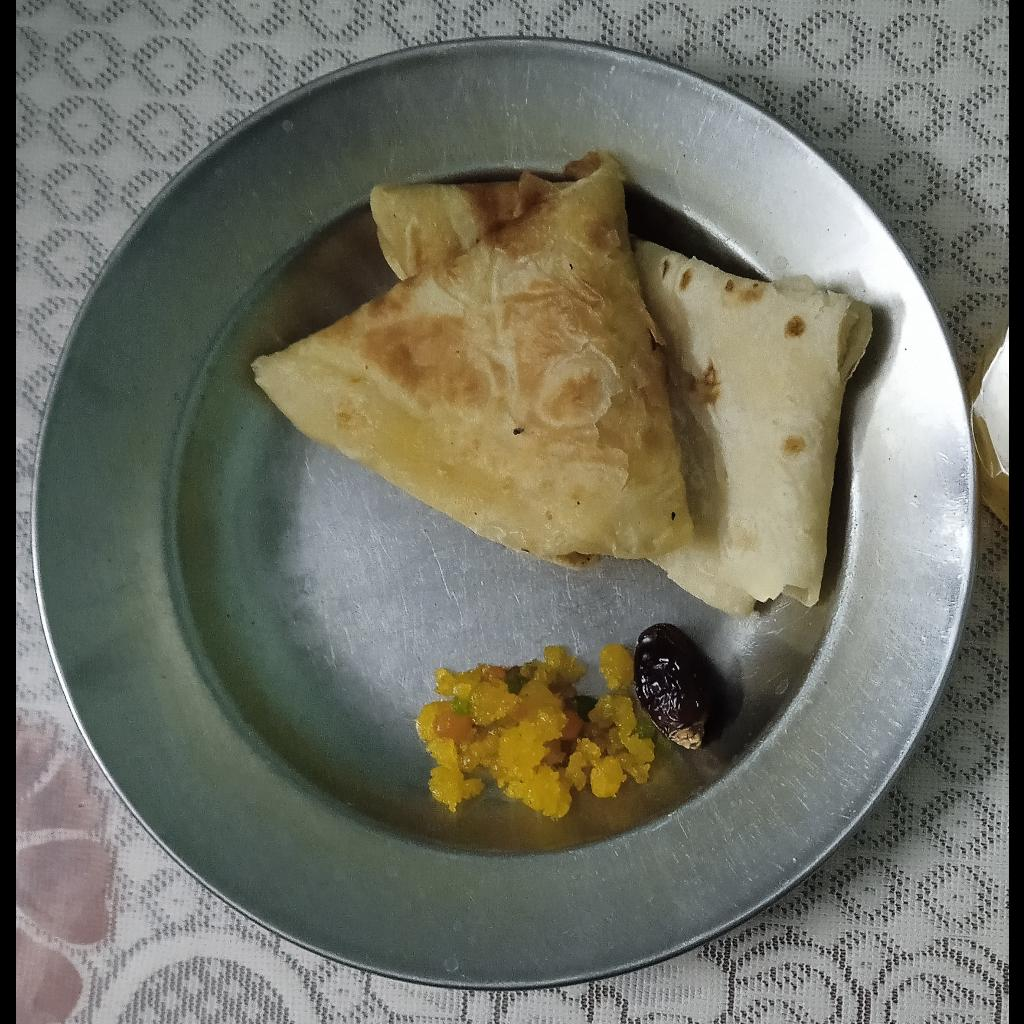burinda: (415, 645, 654, 818)
dates: (633, 624, 705, 750)
ruti: (247, 148, 872, 623)
